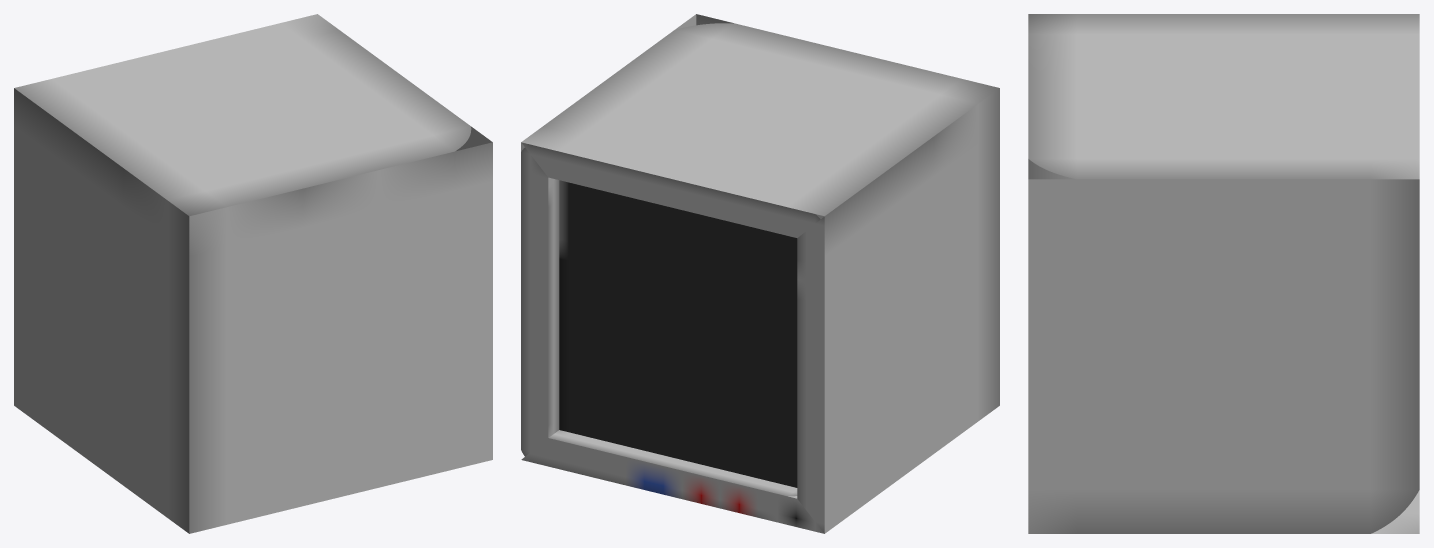
Rendered from Screen.fbx.
3 views of the same model, side by side, from view 1: azimuth 30°, elevation 25°; view 2: azimuth 150°, elevation 25°; view 3: azimuth 270°, elevation 25° (orthographic). The views are drawn at different scales.
Parts seen in each view (by area): view 1: cuboid; view 2: cuboid; view 3: cuboid.
Boxes of the visible parts, bbox=[...] form: cuboid: bbox=[14, 14, 492, 533]; cuboid: bbox=[521, 14, 999, 533]; cuboid: bbox=[1028, 14, 1419, 533].
Bounding box in the file's own units: 100 × 100 × 100.
Materials: 1 (1 with a texture image).
